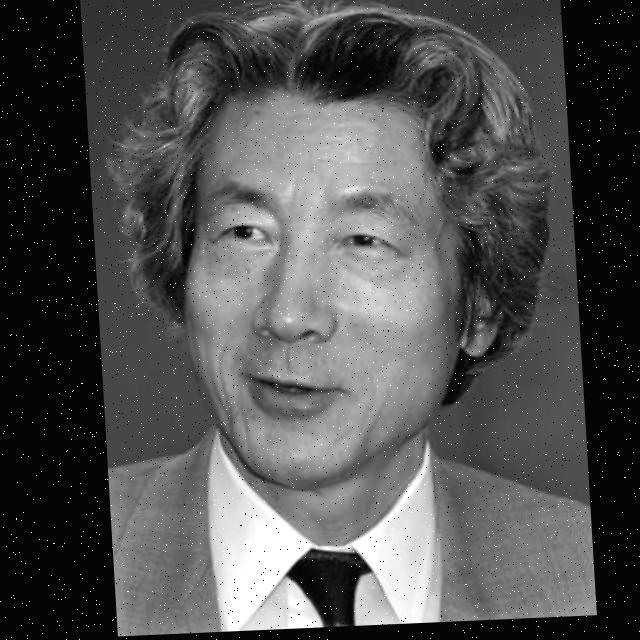face: (157, 65, 523, 506)
